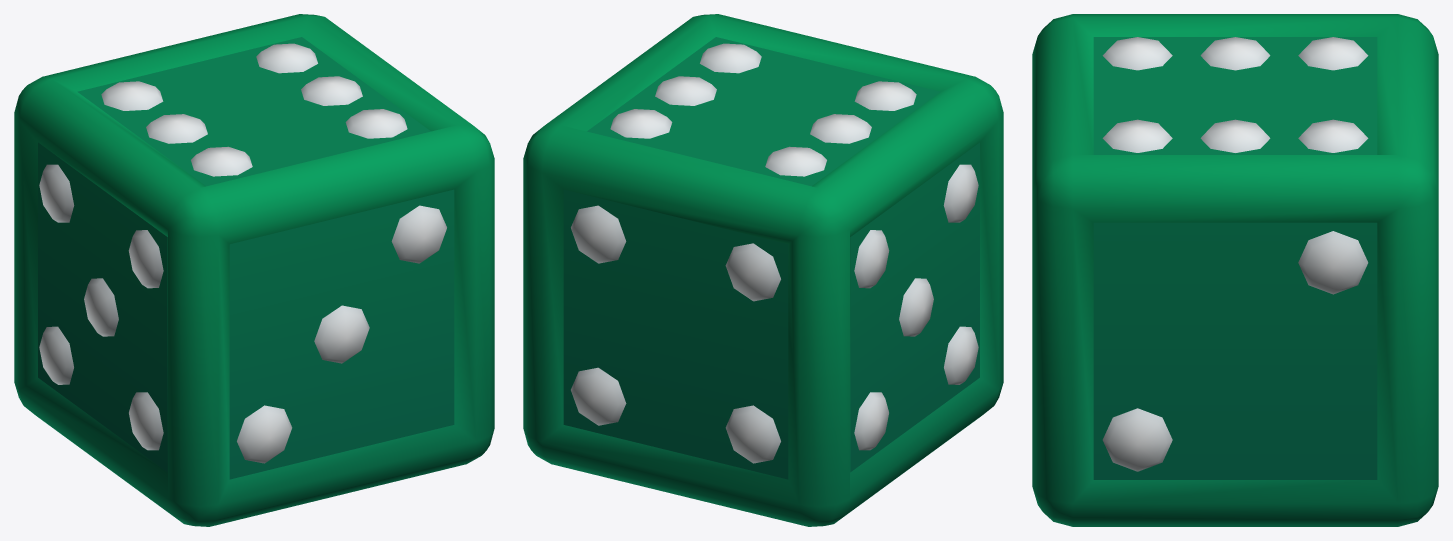
The model's file is D6_B_green.gltf.
The picture shows the model from 3 angles, left to right: view 1: azimuth 30°, elevation 25°; view 2: azimuth 150°, elevation 25°; view 3: azimuth 270°, elevation 25°; orthographic projection. The views are drawn at different scales.
Visible parts, largest first — view 1: D6_B_green; view 2: D6_B_green; view 3: D6_B_green.
Boxes of the visible parts, x1,y1,x2,y2 form: D6_B_green: (14, 14, 494, 526); D6_B_green: (523, 14, 1003, 526); D6_B_green: (1032, 14, 1438, 526).
Size of the model in its own units: 0.75 by 0.75 by 0.75.
1 material, 1 textured.
